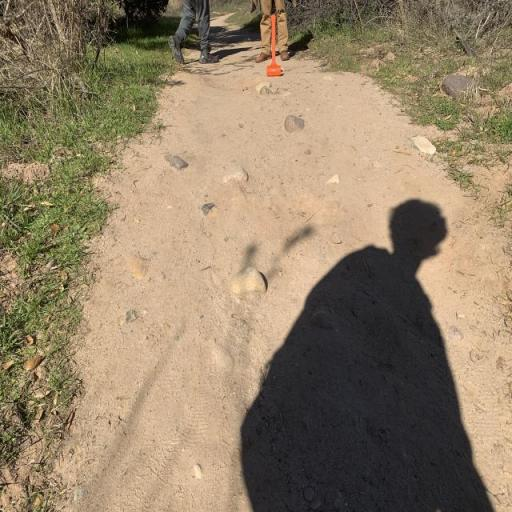mallet: (266, 14, 282, 76)
